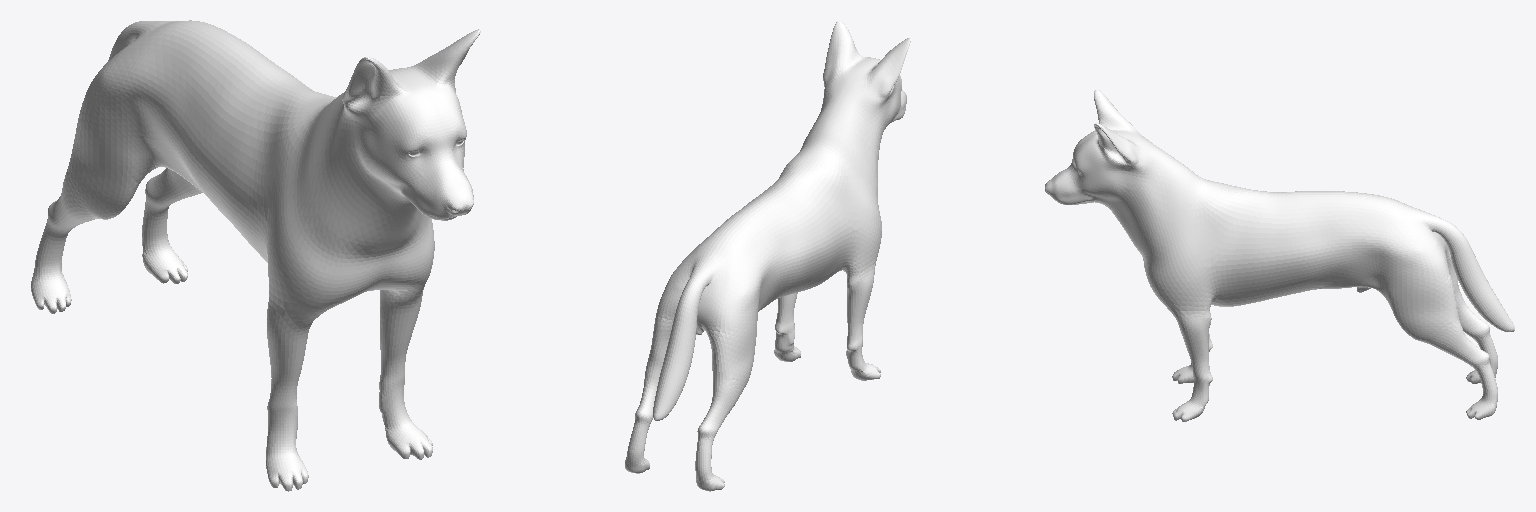
robot.urdf — simple_dog0.obj:
<robot name="simple_dog0.obj">
	<link name="_name">
		<visual>
			<origin xyz="0 0 0" rpy="0 0 0" />
			<geometry>
				<mesh filename="simple_dog0.obj" scale="0.1 0.1 0.1" />
			</geometry>
			<material name="texture">
				<color rgba="1.0 1.0 1.0 1.0" />
			</material>
		</visual>
		<collision>
			<geometry>
				<mesh filename="simple_dog0_vhacd.obj" scale="0.1 0.1 0.1" />
			</geometry>
		</collision>
		<inertial>
			<mass value="1.0" />
			<inertia ixx="1.0" ixy="0.0" ixz="0.0" iyy="1.0" iyz="0.0" izz="1.0" />
		</inertial>
	</link>
</robot>

--- Render facts (derived) ---
3 views of the same robot in one strip: view 1: azimuth 30°, elevation 25°; view 2: azimuth 150°, elevation 25°; view 3: azimuth 270°, elevation 25° (orthographic).
Robot: simple_dog0.obj — 1 links, 0 joints (none); root link _name; default pose: all joints at 0.
Links seen in each view (by area): view 1: _name; view 2: _name; view 3: _name.
Boxes of the visible links, bbox=[...] form: _name: bbox=[31, 20, 480, 491]; _name: bbox=[625, 21, 910, 491]; _name: bbox=[1045, 90, 1514, 421].
Bounding box of the posed robot: 0.9357 × 3.87 × 2.65 m (x, y, z).
1 mesh visuals loaded from 1 distinct referenced files (1 OBJ).